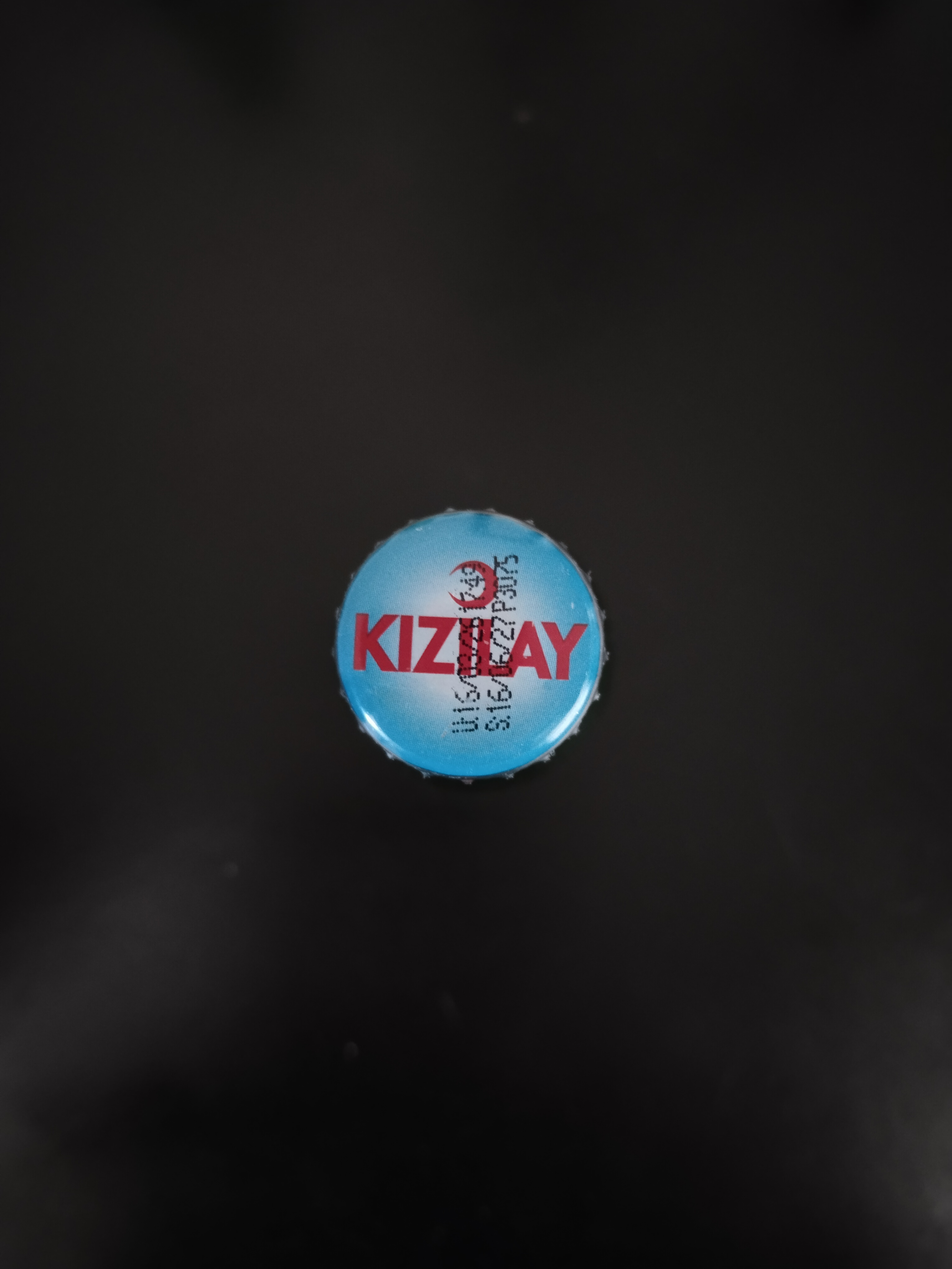eti_hosbes_gofret: (337, 513, 601, 779)
